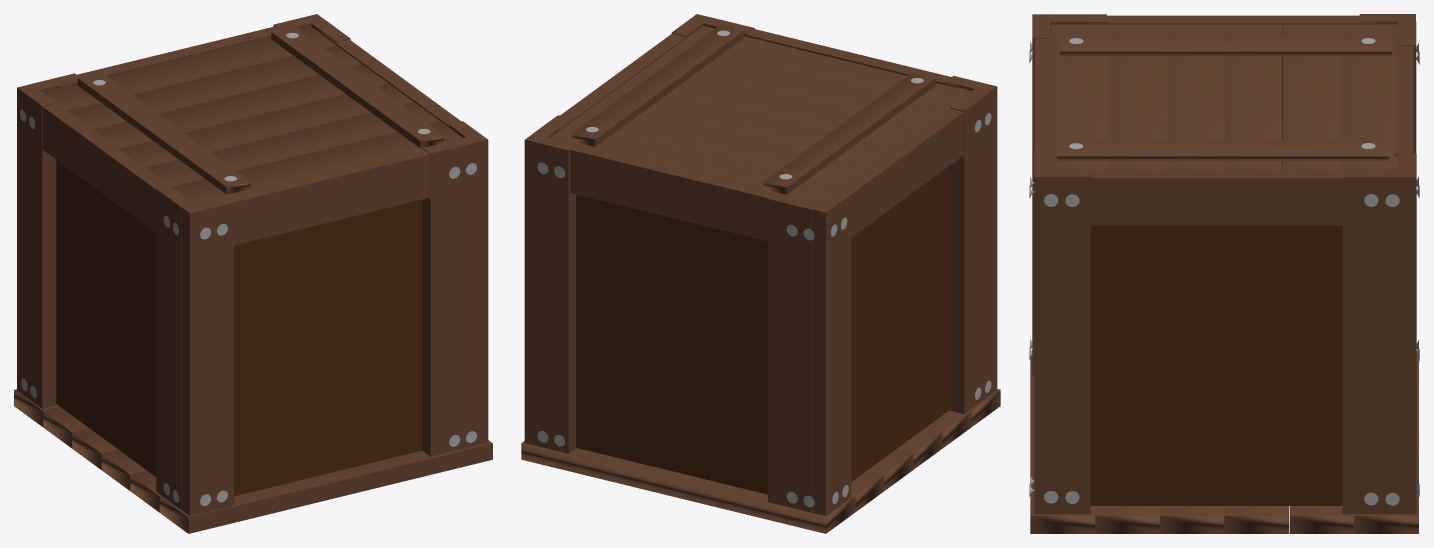
File: Holzkiste+Deckel.fbx
3 views of the same model, side by side, from view 1: azimuth 30°, elevation 25°; view 2: azimuth 150°, elevation 25°; view 3: azimuth 270°, elevation 25° (orthographic). The views are drawn at different scales.
Parts seen in each view (by area): view 1: polySurface70, polySurface114; view 2: polySurface70, polySurface114; view 3: polySurface70, polySurface114.
Boxes of the visible parts, box(x1,y1,x2,y2) form: polySurface70: box(14, 14, 492, 533); polySurface114: box(42, 26, 462, 203); polySurface70: box(521, 14, 1000, 533); polySurface114: box(550, 24, 971, 203); polySurface70: box(1029, 14, 1419, 533); polySurface114: box(1051, 24, 1398, 170).
Size of the model in its own units: 112 by 114 by 112.
